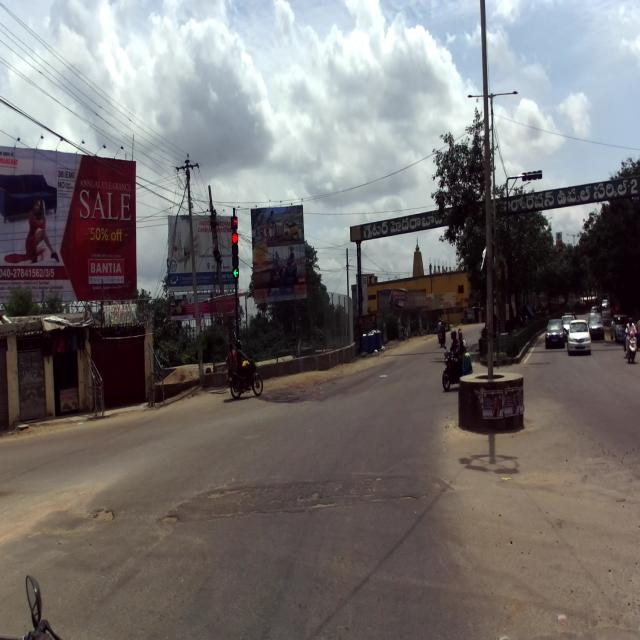motorcycle: (1, 573, 62, 639)
